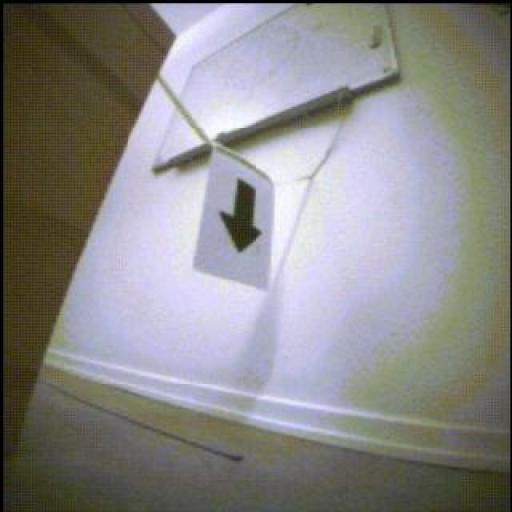arrow: (222, 180, 262, 254)
